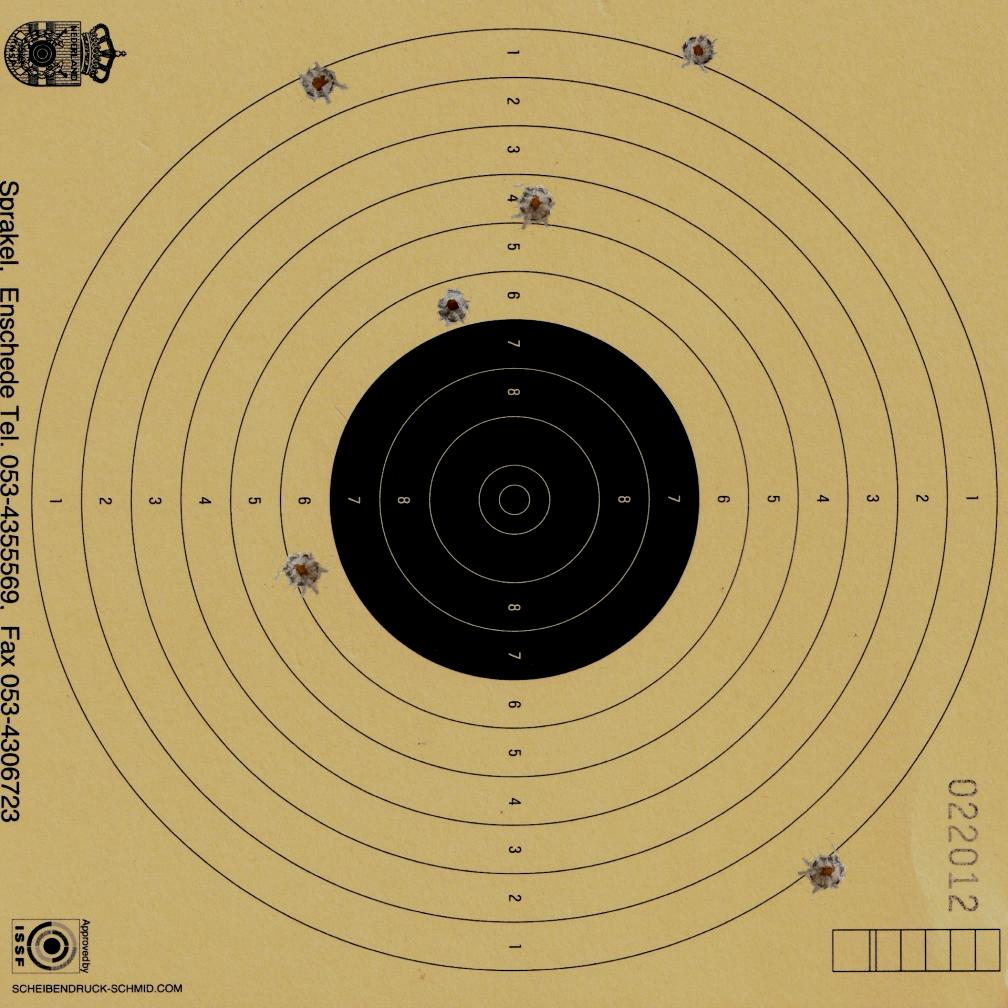1: (794, 843, 852, 897), (296, 60, 351, 106), (678, 32, 721, 76)
5: (509, 182, 557, 233)
6: (273, 552, 329, 600), (434, 288, 472, 328)
Target: (25, 26, 1000, 975)
black_contour: (329, 318, 699, 680)
